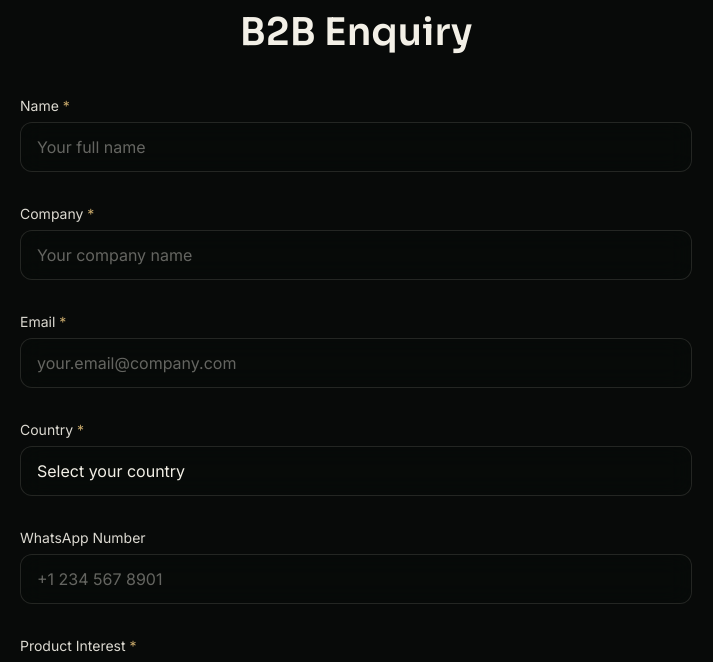
Test: EnquiryForm › Inline Validation Errors (Req 4.4) › displays email validation error for invalid email
This screenshot has width=713, height=662.
Type "invalidemail" into the field labelled "Email *".
click(356, 363); type("invalidemail")  # box left=20, top=338, right=692, bottom=388
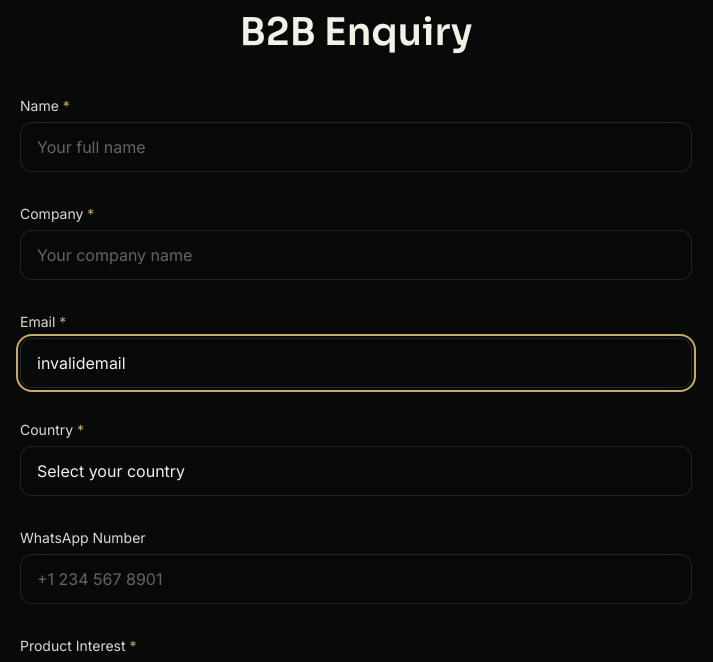
Press Tab
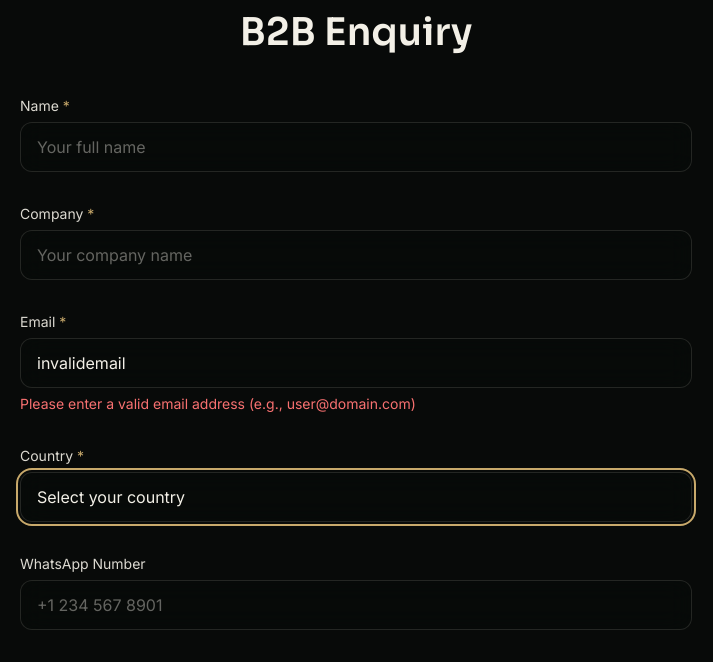
Expected: the text "Please enter a valid email address (e.g., user@domain.com)" is shown, left=20, top=395, right=416, bottom=412
